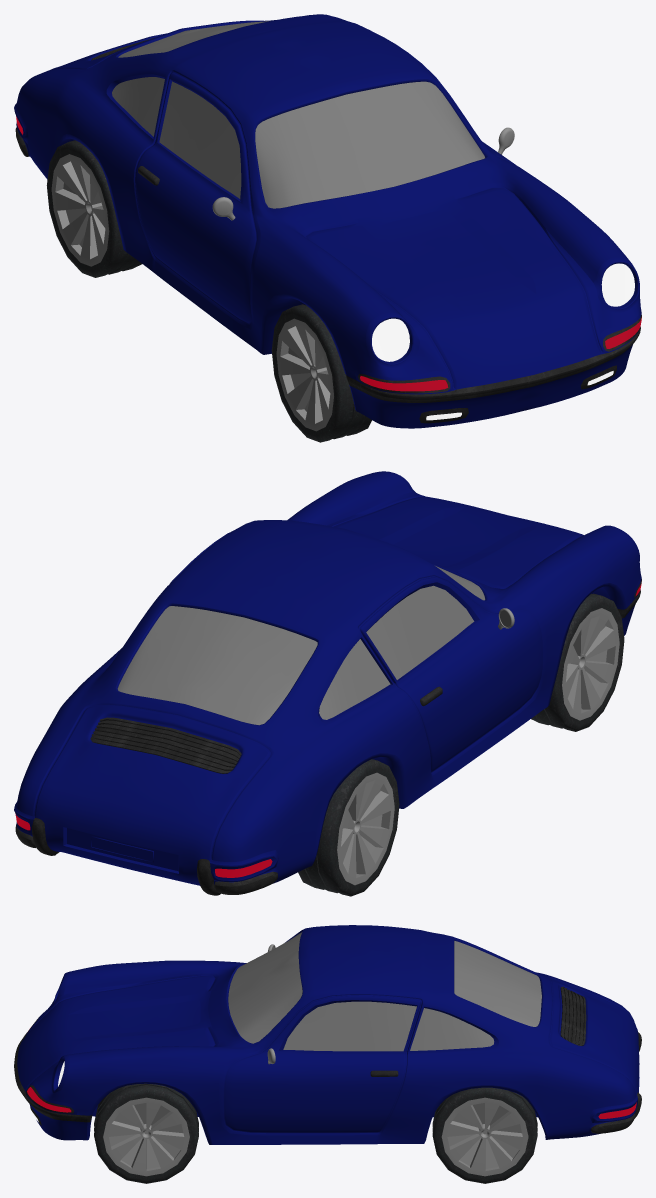
File: porsche-911.glb
3 views of the same model, one above another, from view 1: azimuth 30°, elevation 25°; view 2: azimuth 150°, elevation 25°; view 3: azimuth 270°, elevation 25° (orthographic). The views are drawn at different scales.
Visible parts, largest first — view 1: porsche_911, wheel_3, wheel_4; view 2: porsche_911, wheel_4, wheel_3; view 3: porsche_911, wheel_1, wheel_2.
Boxes of the visible parts, left/top/right/bottom form: porsche_911: left=14, top=14, right=641, bottom=428; wheel_3: left=271, top=304, right=371, bottom=442; wheel_4: left=46, top=140, right=141, bottom=277; porsche_911: left=14, top=471, right=641, bottom=895; wheel_4: left=298, top=759, right=399, bottom=896; wheel_3: left=531, top=593, right=624, bottom=731; porsche_911: left=14, top=925, right=641, bottom=1144; wheel_1: left=94, top=1083, right=198, bottom=1183; wheel_2: left=432, top=1087, right=537, bottom=1183.
Size of the model in its own units: 2.29 by 1.77 by 5.5.
Materials: 3 (1 with a texture image).
